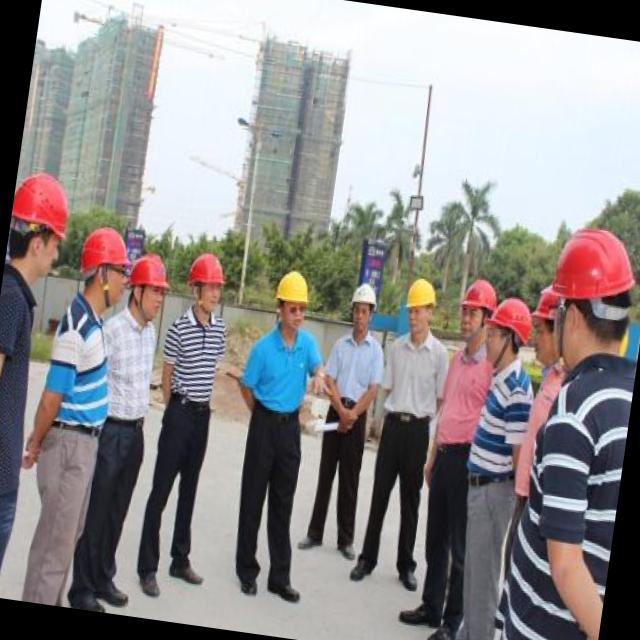helmet: (539, 221, 640, 371), (2, 170, 78, 289), (74, 222, 136, 316), (524, 280, 573, 378), (484, 298, 532, 377), (268, 266, 316, 340), (125, 249, 173, 323), (180, 250, 232, 317), (453, 272, 498, 346), (396, 272, 443, 340), (344, 269, 384, 337)
